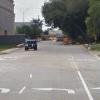Car: (22, 35, 41, 53)
